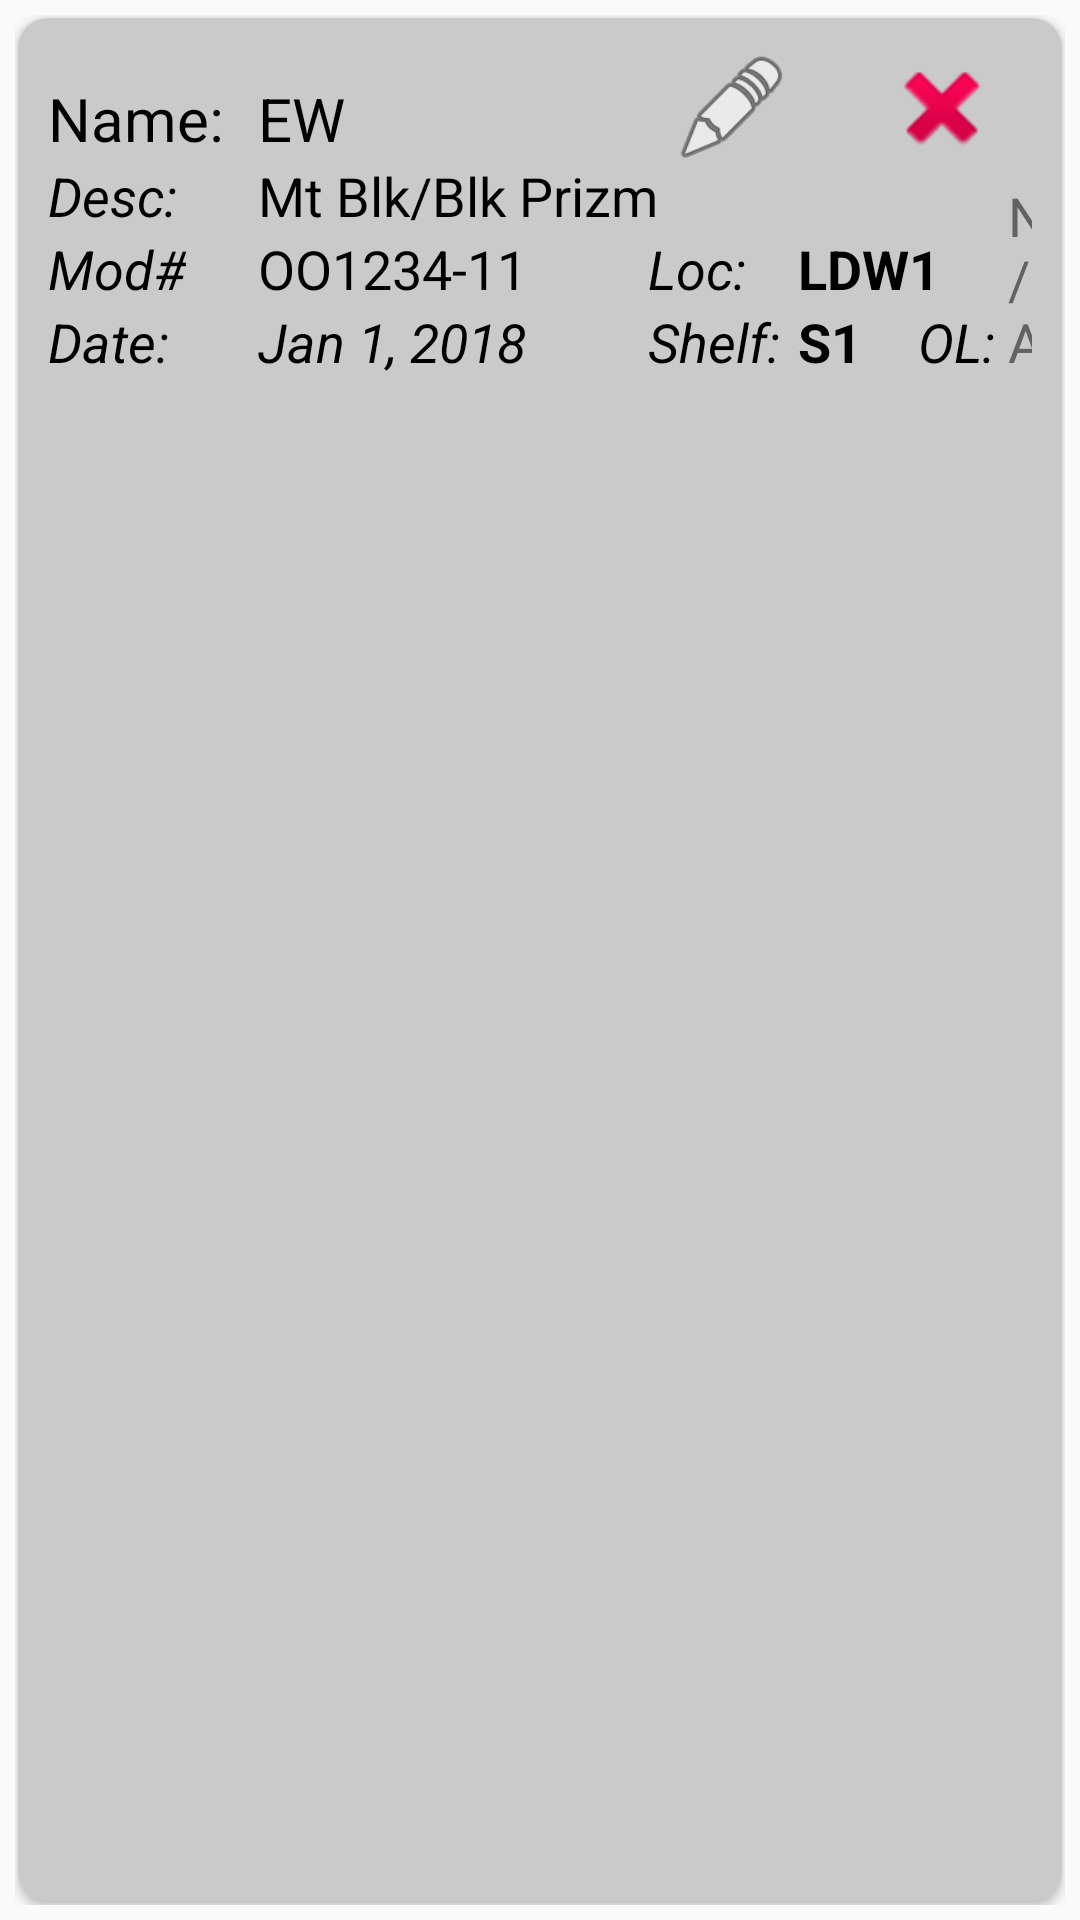

Icon bounding boxes for this 1080w x 1920h phone screenshot, format (x1, y1, x2, y2):
delete: (904, 72, 980, 145)
edit: (681, 56, 782, 158)
